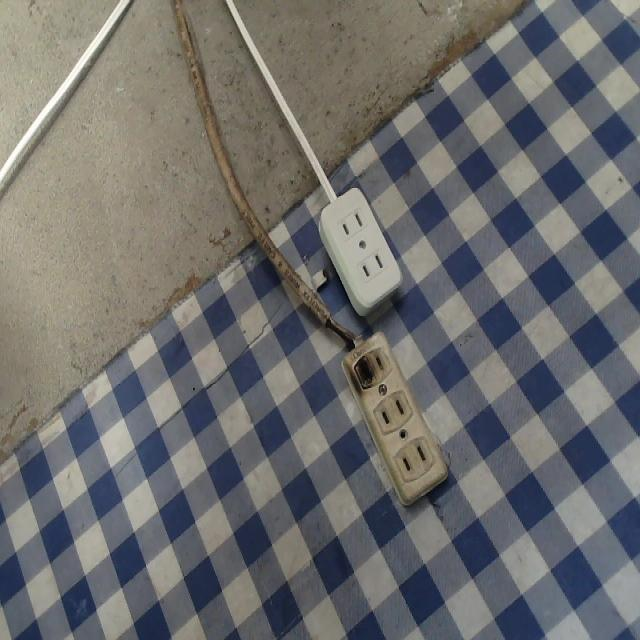-: (349, 351, 376, 398)
